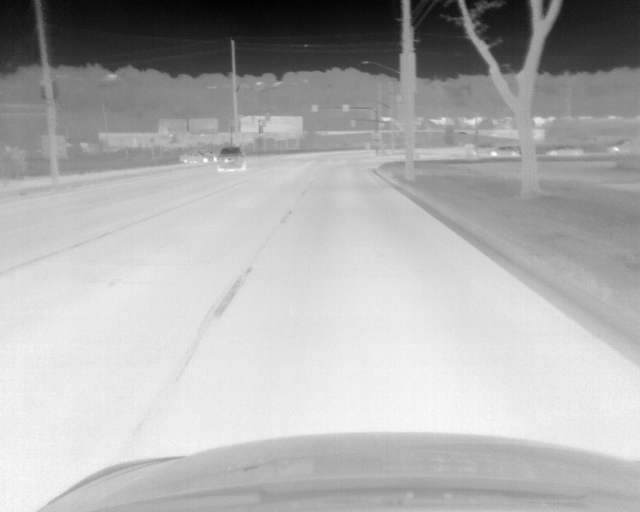car: (217, 146, 246, 172), (181, 149, 217, 163), (546, 145, 583, 155), (489, 146, 521, 157)
